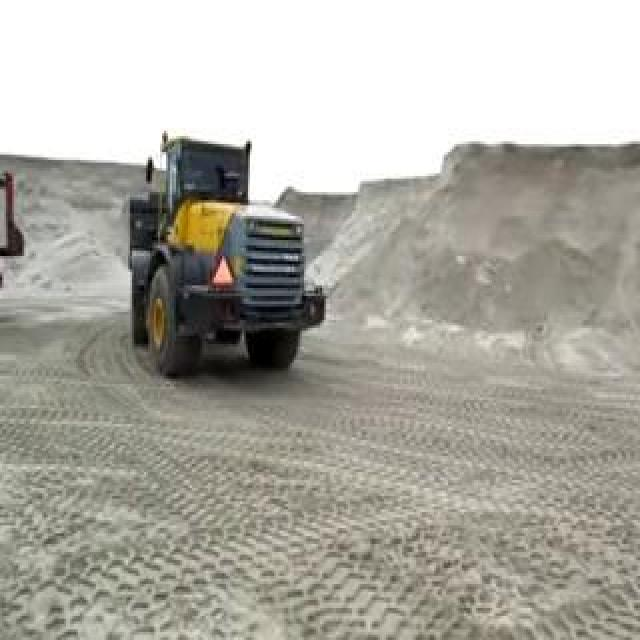Loader: (116, 125, 324, 376)
